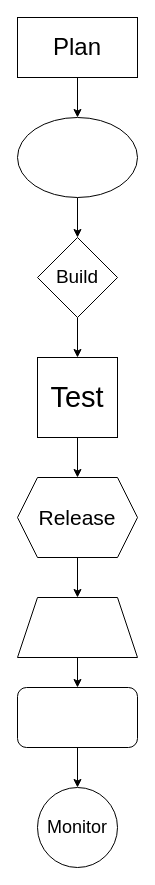
Image size: 155x885. Some labels were removed from this diagram. Here are the shapes that lost their labels. From the top down, the centre of each, then its label:
pixel 77 157: Develop
pixel 77 627: Deploy
pixel 77 717: Operator-Person/ Actor
